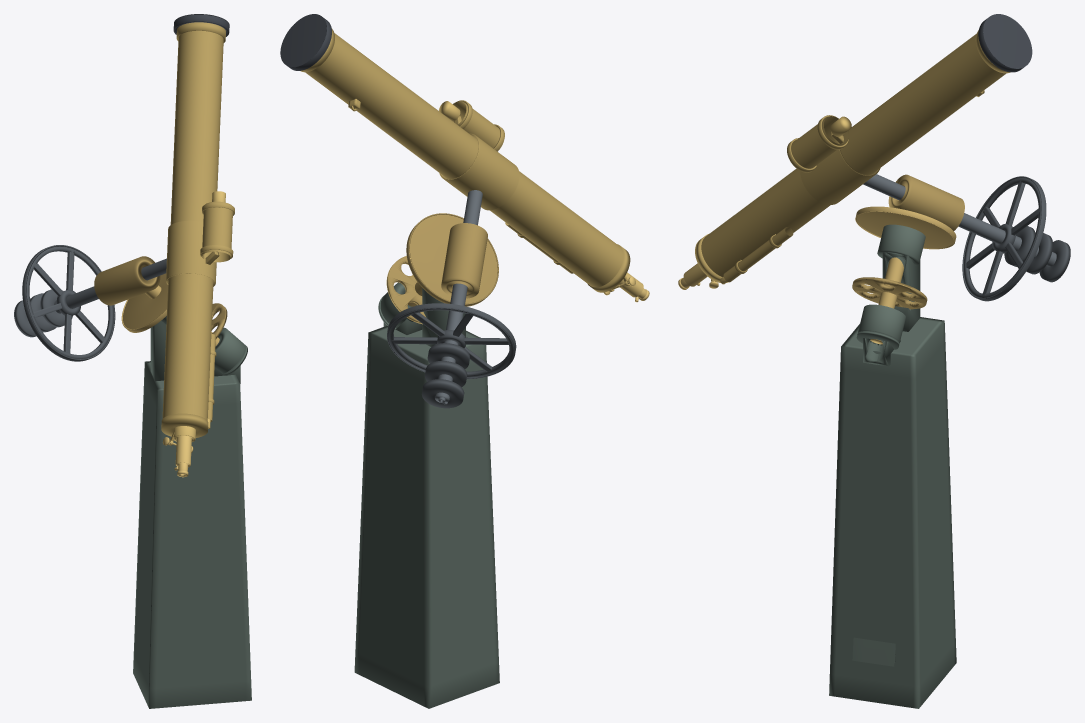
Rendered from observatory-telescope-03.glb.
The picture shows the model from 3 angles, left to right: view 1: azimuth 30°, elevation 25°; view 2: azimuth 150°, elevation 25°; view 3: azimuth 270°, elevation 25°; orthographic projection. The views are drawn at different scales.
Parts seen in each view (by area): view 1: painted_steel, steel, brass; view 2: painted_steel, steel, brass; view 3: painted_steel, steel, brass.
Part boxes in pixels (left/top/right/bottom): painted_steel: left=14, top=14, right=251, bottom=708; steel: left=54, top=258, right=219, bottom=467; brass: left=121, top=191, right=225, bottom=471; painted_steel: left=280, top=14, right=630, bottom=708; steel: left=408, top=190, right=643, bottom=402; brass: left=406, top=101, right=646, bottom=404; painted_steel: left=695, top=14, right=1070, bottom=708; steel: left=683, top=174, right=1056, bottom=344; brass: left=680, top=116, right=956, bottom=288.
Size of the model in its own units: 1.82 by 5.3 by 2.73.
